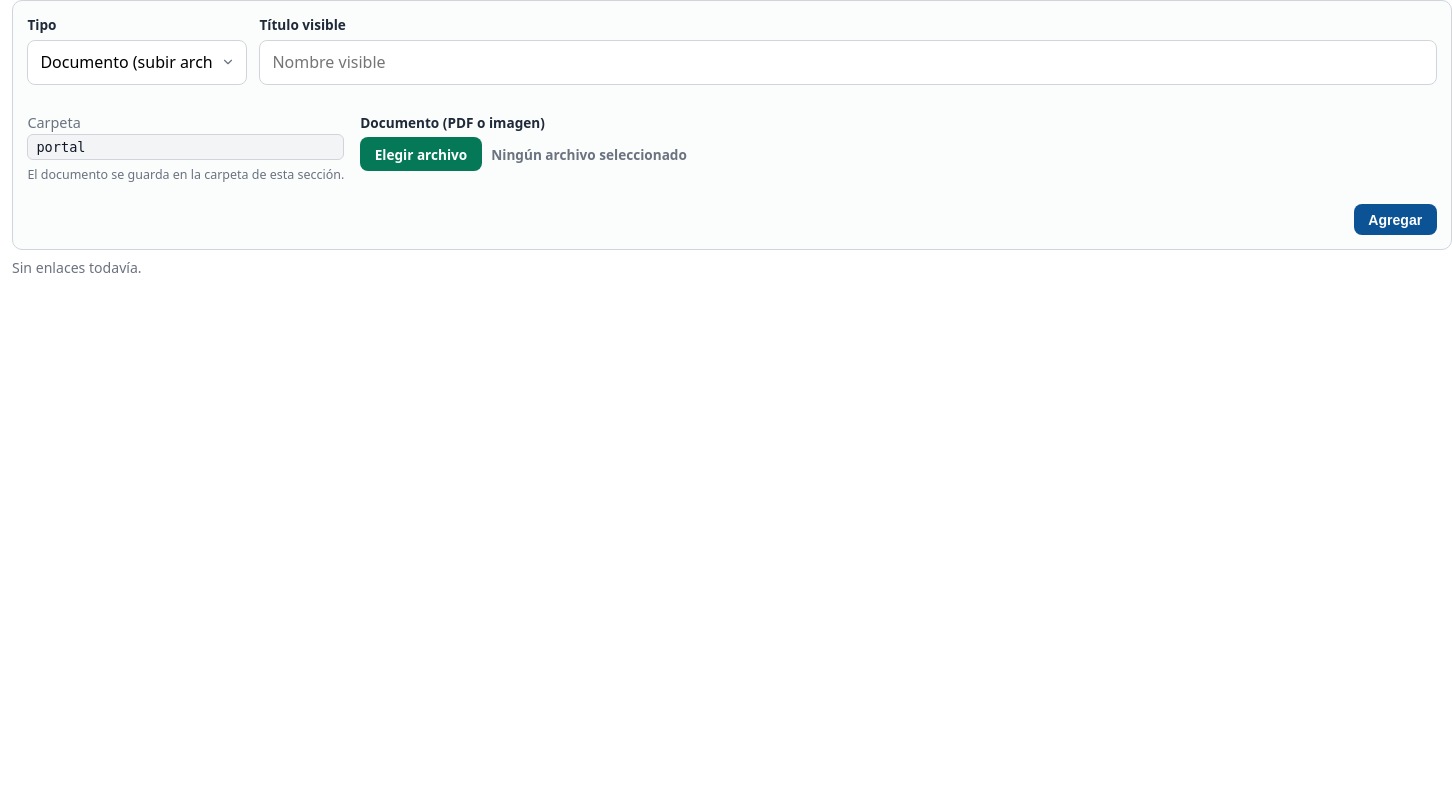
Scenario: GestorEnlaces › valida que el título sea obligatorio
The width and height of the screenshot is (1452, 810).
Select "Enlace externo (URL)" in the dropdown: coordinates (137, 62) x1=27 y1=40 x2=247 y2=85
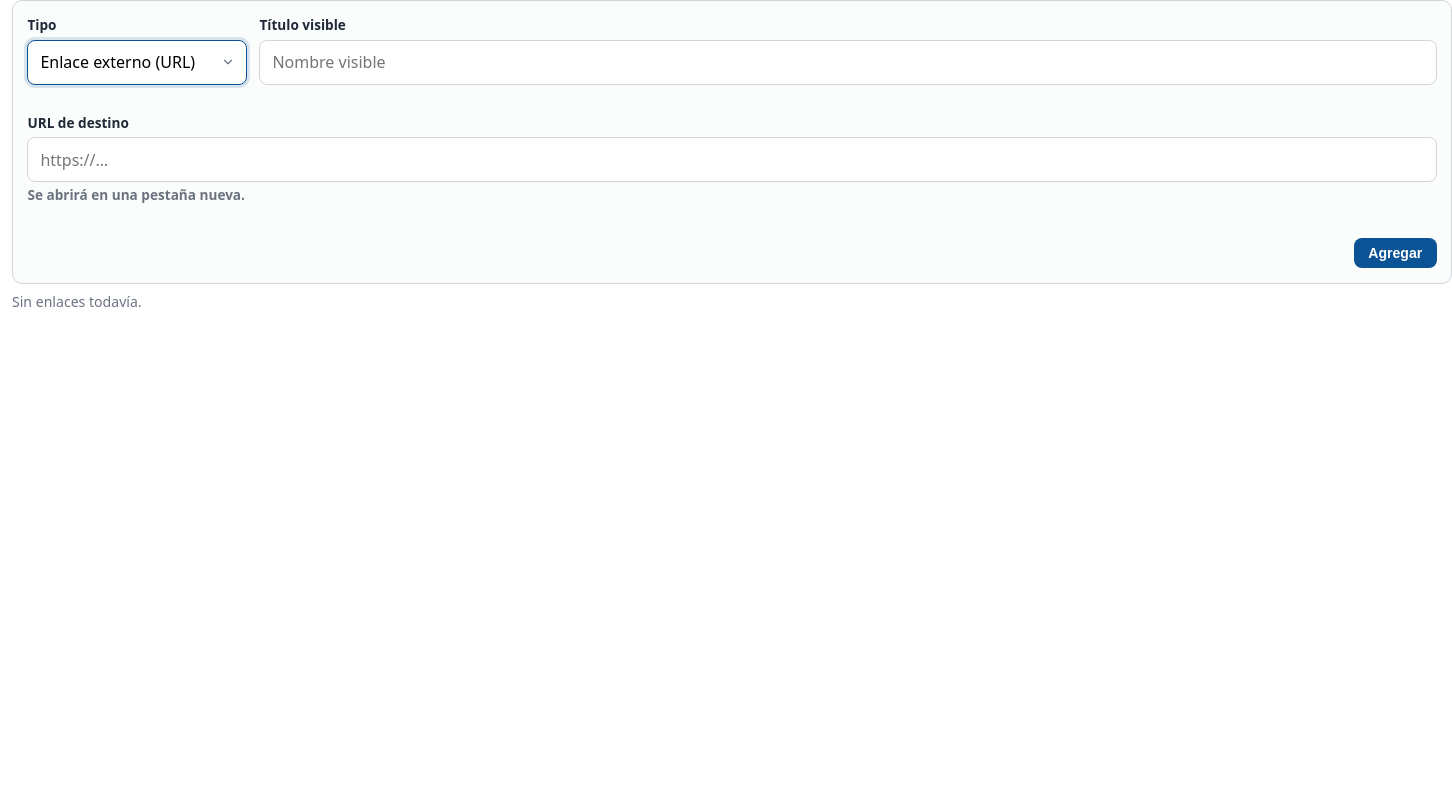
Click the button "Agregar": coordinates (1395, 253) x1=1354 y1=238 x2=1437 y2=268
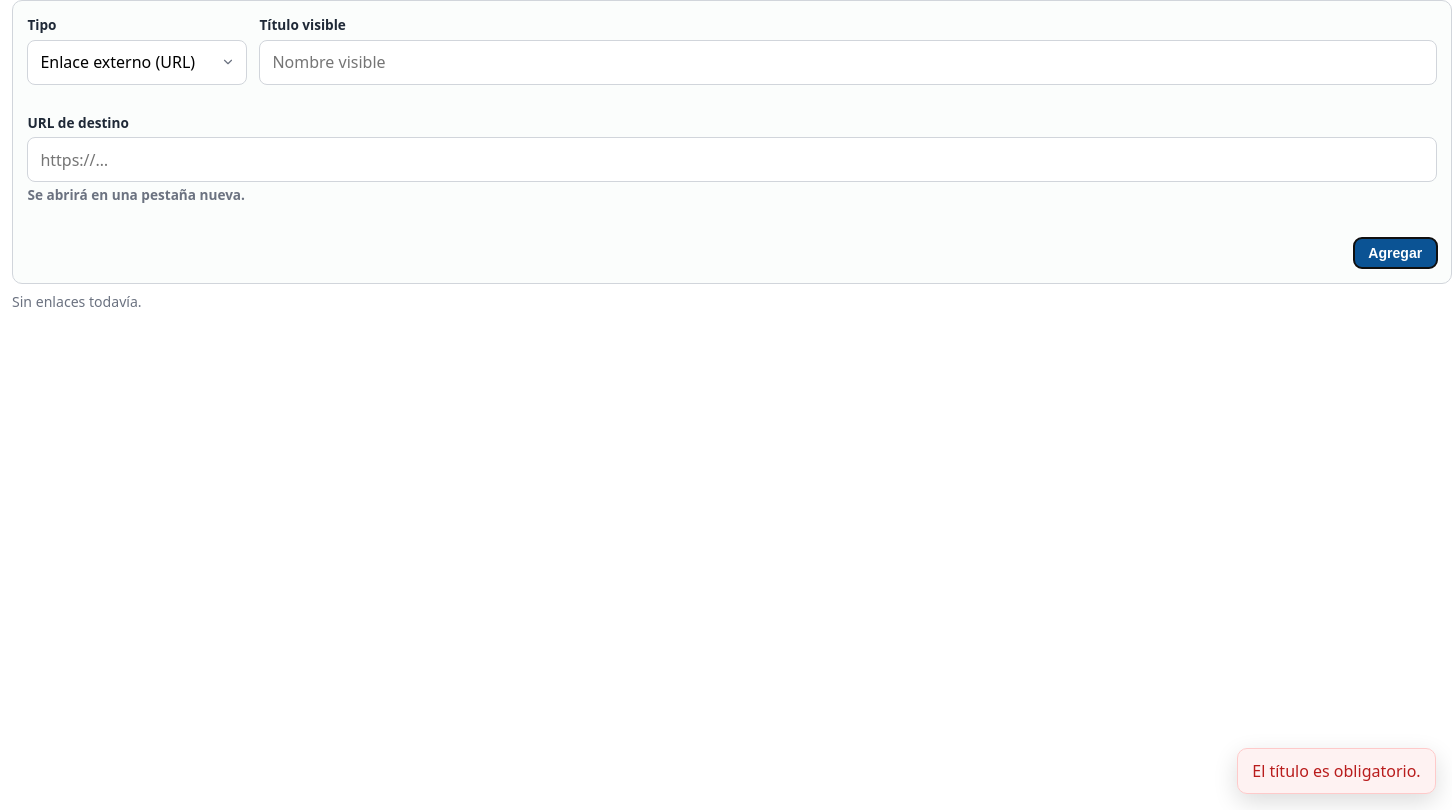
Result: the button "El título es obligatorio." is shown at x1=1237 y1=748 x2=1436 y2=794
